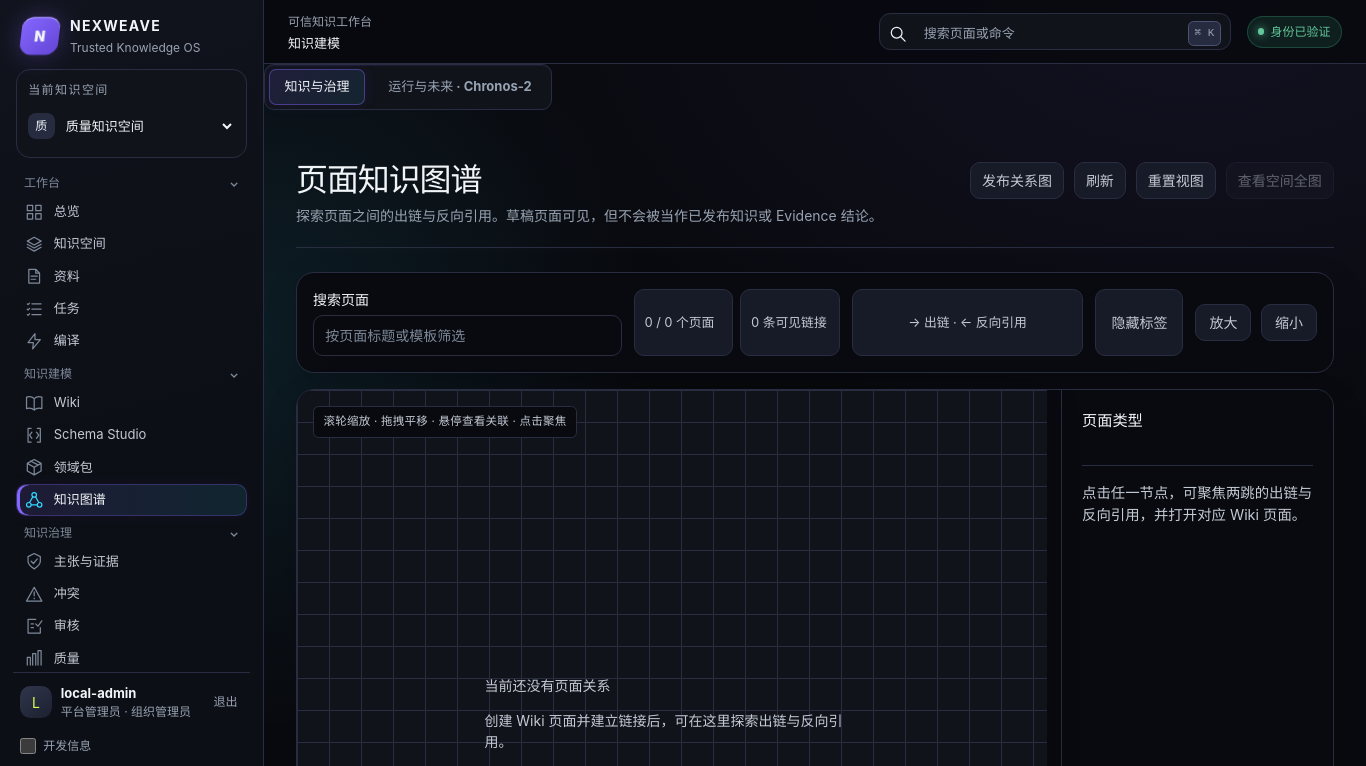
Test case: switches graph modes when only the query string changes
Expected: the heading "页面知识图谱" is shown, [296,160,481,199]
Click the button "发布关系图": [1017, 181] box [970,162,1064,199]
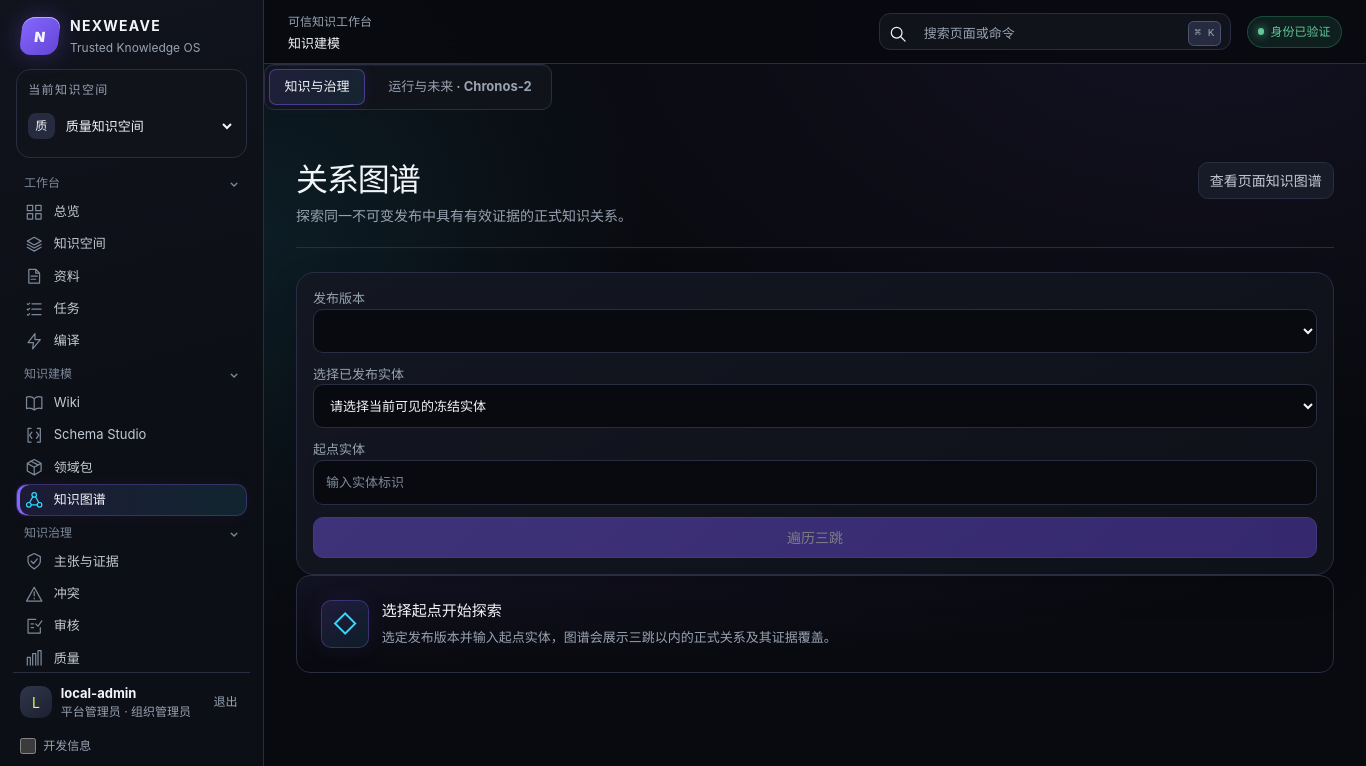
Now the heading "关系图谱" is shown, box [296,160,420,199]
Click the button "查看页面知识图谱": [1266, 181] box [1198,162,1334,199]
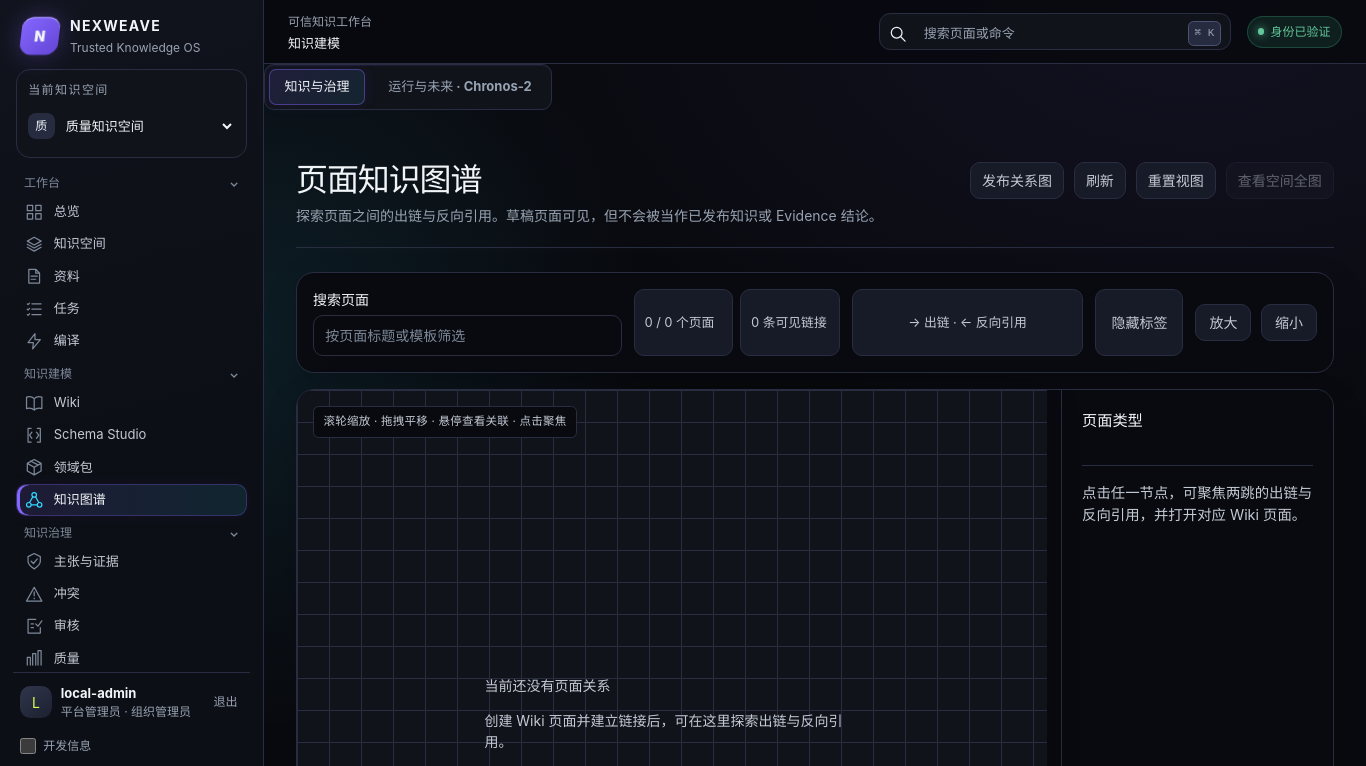
Now the heading "页面知识图谱" is shown, box [296,160,481,199]
